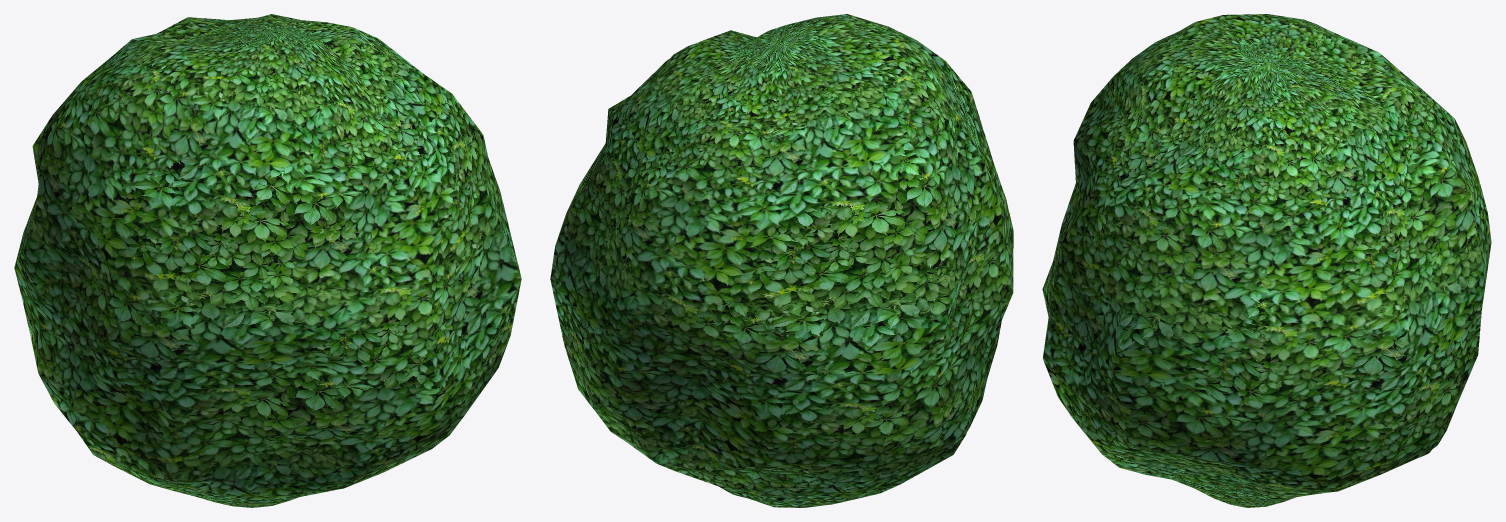
The model's file is RoundHedge.fbx.
3 renders of one model, left to right at view 1: azimuth 30°, elevation 25°; view 2: azimuth 150°, elevation 25°; view 3: azimuth 270°, elevation 25°, orthographic. The views are drawn at different scales.
Visible parts, largest first — view 1: LOD_0; view 2: LOD_0; view 3: LOD_0.
Part boxes in pixels (left/top/right/bottom): LOD_0: left=14, top=14, right=521, bottom=507; LOD_0: left=550, top=14, right=1013, bottom=507; LOD_0: left=1042, top=14, right=1491, bottom=507.
Size of what is drawn, in the model's own units: 80.07 by 83.45 by 76.29.
Materials: 1 (1 with a texture image).
